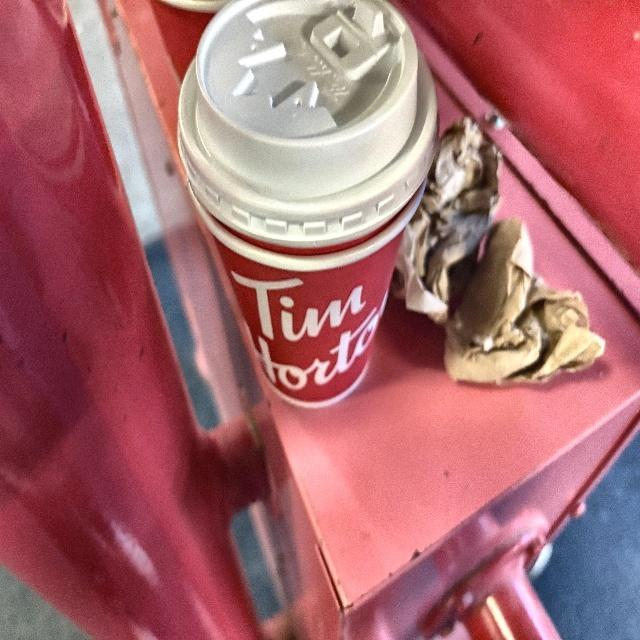timmies: (184, 172, 431, 412)
